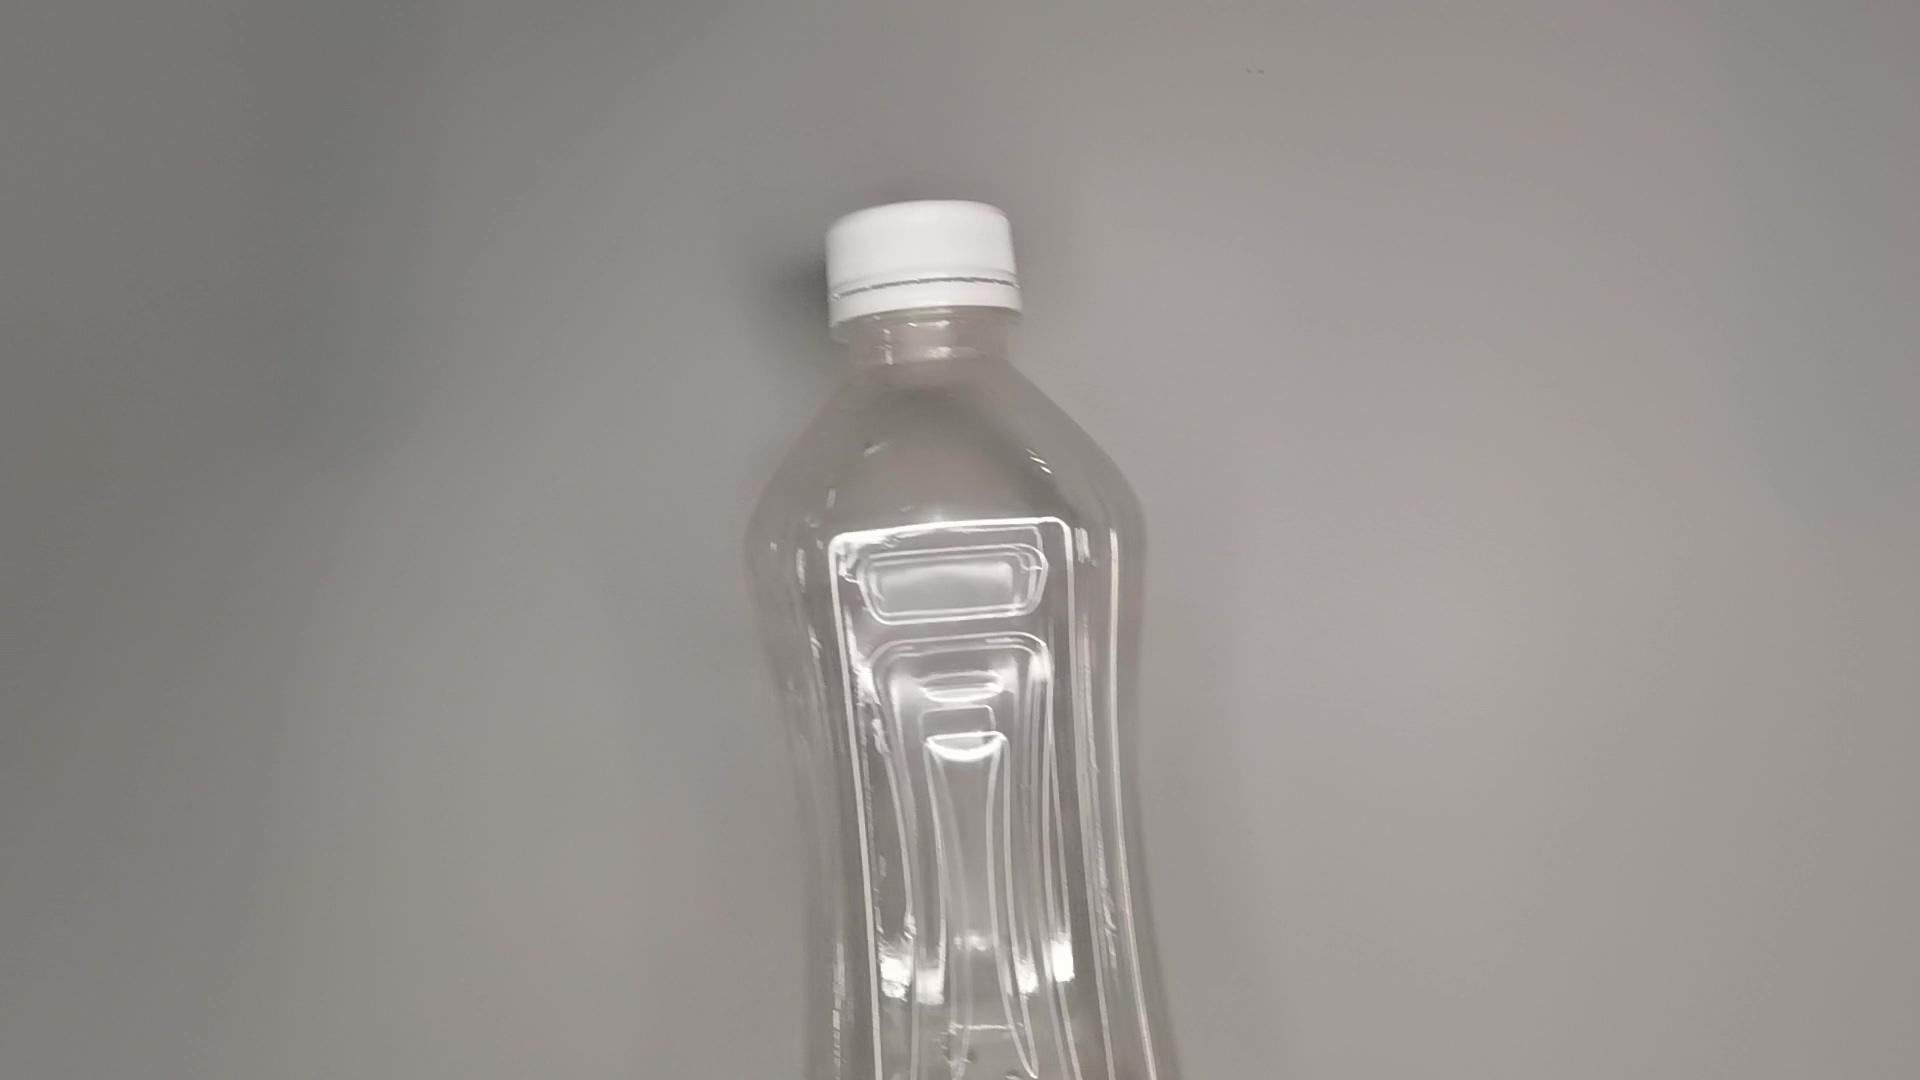bottle: (732, 194, 1199, 1080)
